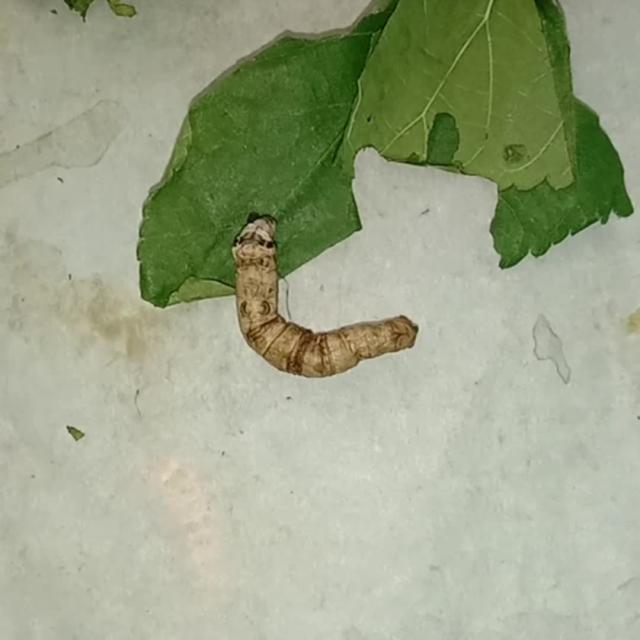Grasserie: (220, 205, 428, 385)
